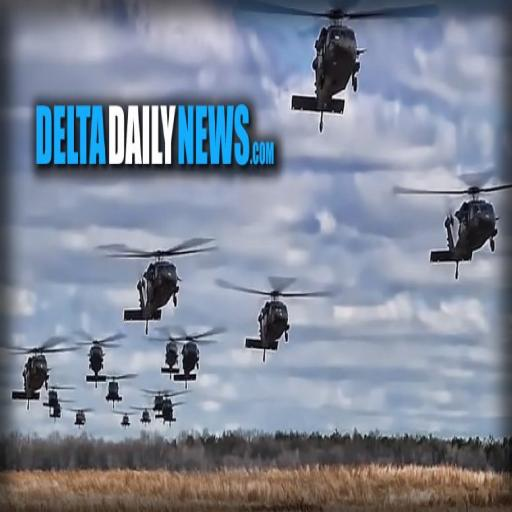helicopter: (258, 4, 427, 127), (387, 172, 512, 271), (220, 278, 332, 359), (100, 246, 204, 329), (6, 345, 62, 407), (84, 334, 114, 389), (159, 331, 182, 382), (186, 335, 207, 385), (49, 388, 76, 425), (67, 410, 98, 437), (105, 374, 130, 405), (163, 397, 187, 429), (138, 401, 157, 427), (154, 389, 172, 416), (123, 410, 131, 431)
